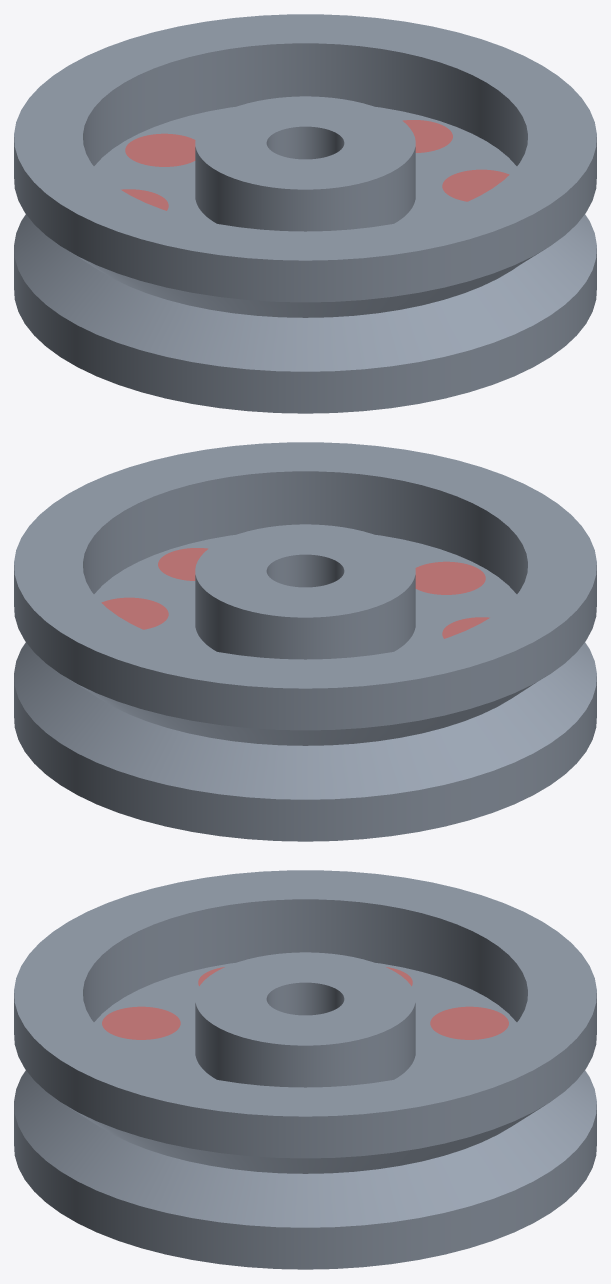
The model's file is step_03.glb.
The picture shows the model from 3 angles, top to bottom: view 1: azimuth 30°, elevation 25°; view 2: azimuth 150°, elevation 25°; view 3: azimuth 270°, elevation 25°; orthographic projection.
Visible parts, largest first — view 1: part__V-belt pulley, removed__V-belt pulley; view 2: part__V-belt pulley, removed__V-belt pulley; view 3: part__V-belt pulley, removed__V-belt pulley.
Boxes of the visible parts, x1,y1,x2,y2 form: part__V-belt pulley: (14,14,596,413); removed__V-belt pulley: (121,120,509,210); part__V-belt pulley: (14,442,596,841); removed__V-belt pulley: (101,548,489,638); part__V-belt pulley: (14,870,596,1269); removed__V-belt pulley: (102,967,508,1039).
Size of the model in its own units: 143 by 41.4 by 143.
